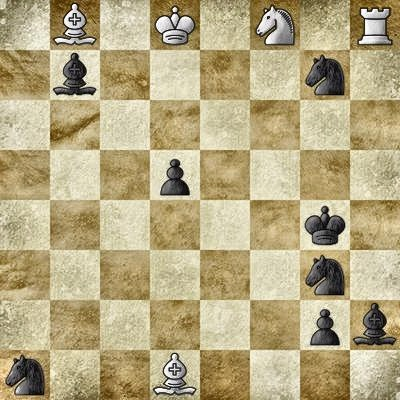black-bishop: (50, 50, 100, 100), (350, 300, 400, 350)
black-king: (300, 200, 350, 250)
black-knight: (300, 50, 350, 100), (300, 250, 350, 300), (0, 350, 50, 400)
black-pawn: (150, 150, 200, 200), (300, 300, 350, 350)
white-bishop: (50, 0, 100, 50), (150, 350, 200, 400)
white-king: (150, 0, 200, 50)
white-knight: (250, 0, 300, 50)
white-rook: (350, 0, 400, 50)
